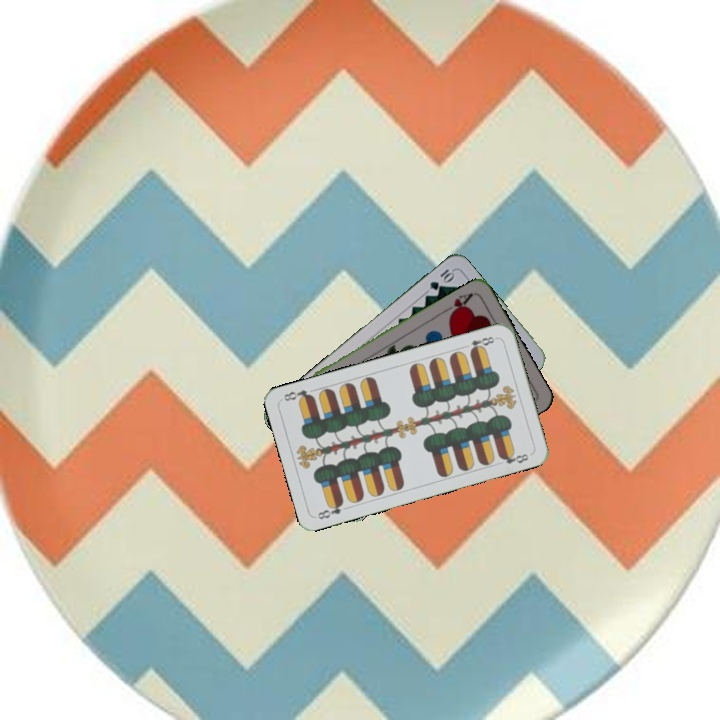E8: (313, 497, 346, 522), (466, 332, 499, 355)
G10: (426, 265, 457, 293)
HA: (440, 289, 476, 320)
